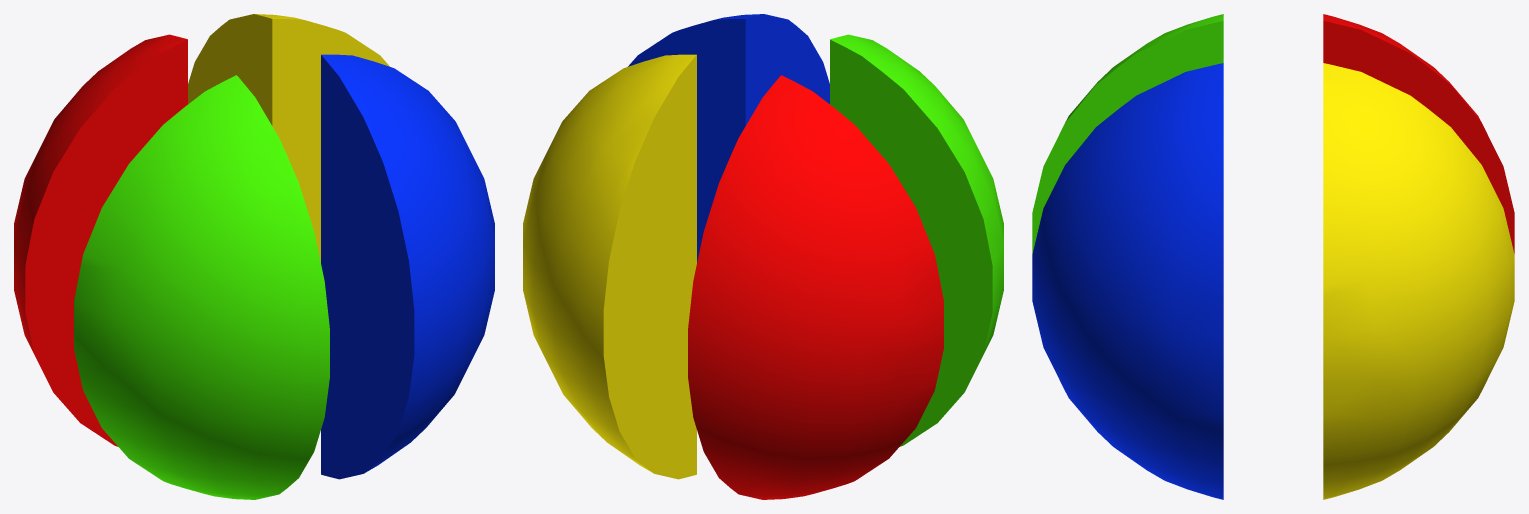
The picture shows the model from 3 angles, left to right: view 1: azimuth 30°, elevation 25°; view 2: azimuth 150°, elevation 25°; view 3: azimuth 270°, elevation 25°; orthographic projection. The views are drawn at different scales.
Visible parts, largest first — view 1: Булев; view 2: Булев; view 3: Булев.
Part boxes in pixels (x1,y1,x2,y2): Булев: (14, 14, 494, 499); Булев: (523, 14, 1003, 499); Булев: (1032, 14, 1514, 499).
Bounding box in the file's own units: 0.9735 × 0.9534 × 0.9687.
